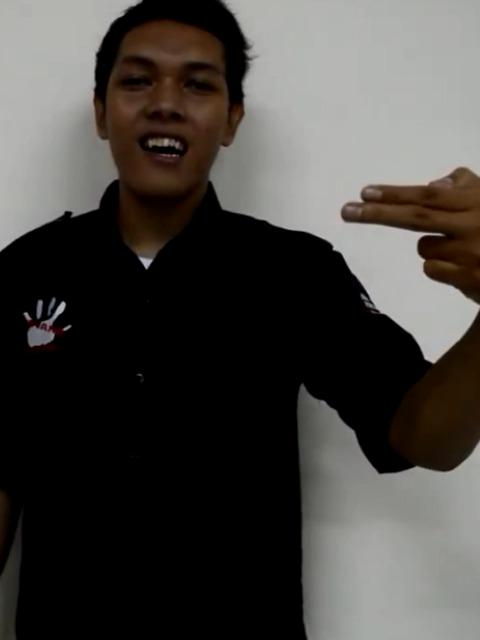H: (338, 166, 480, 304)
